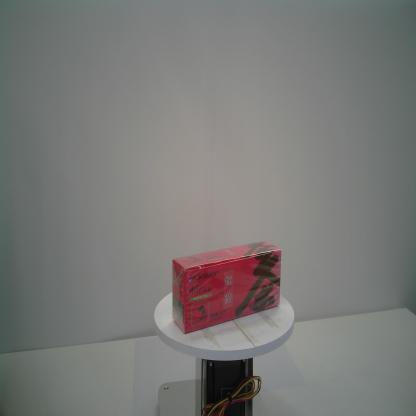Instant Drink: (172, 238, 282, 334)
